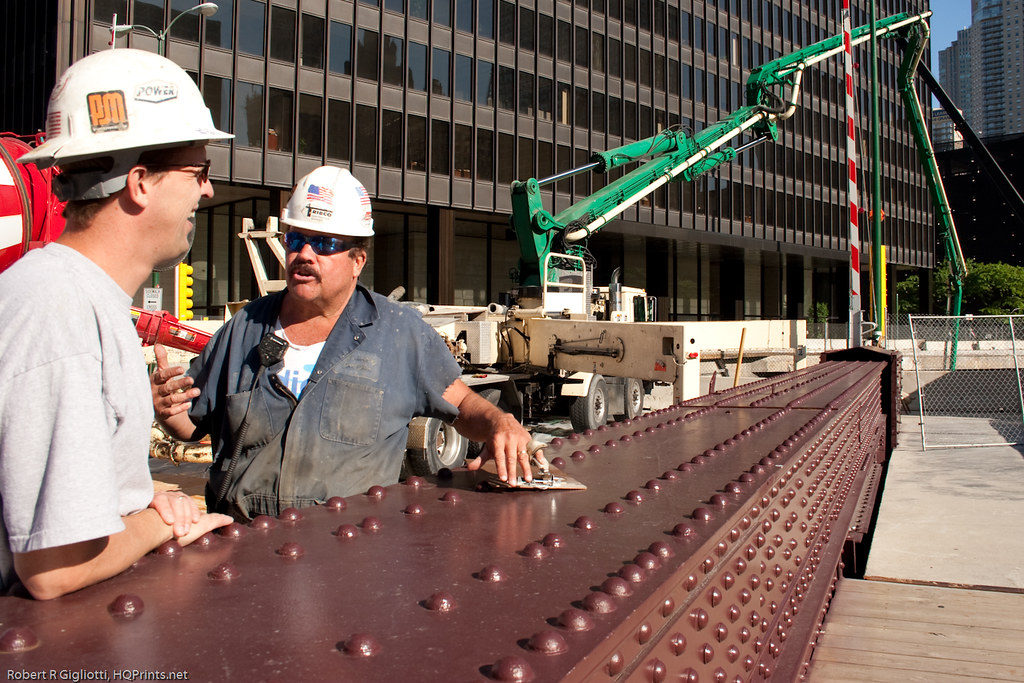hard hat: (32, 46, 235, 159), (274, 165, 376, 239)
